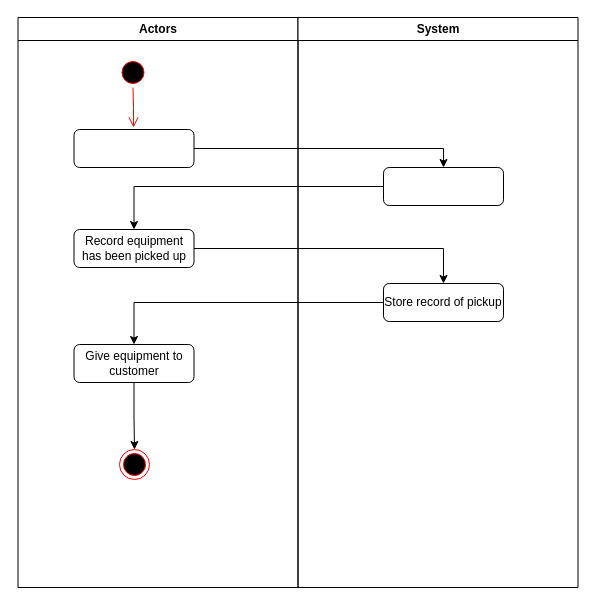
Image size: 595x605. Some labels were removed from this diagram. The shapes that lost their labels are listed below. From the top down, each one's box as (x1, y1, x2, y2) in pixels, then its label:
(73, 128, 194, 168): Get details from customer
(382, 166, 504, 206): Store Customer Details in logbook
